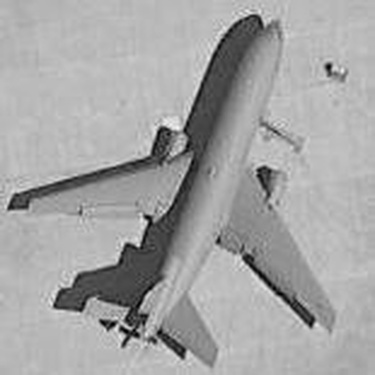airplane: (19, 10, 344, 370)
